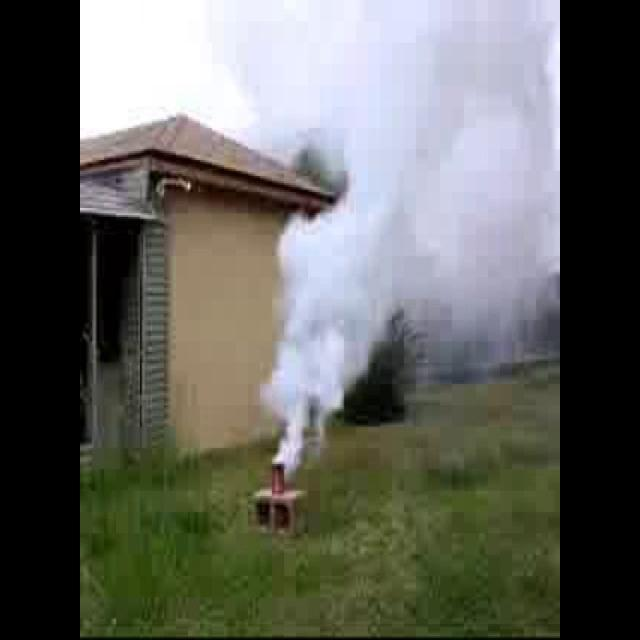Smoke: (255, 0, 560, 471)
